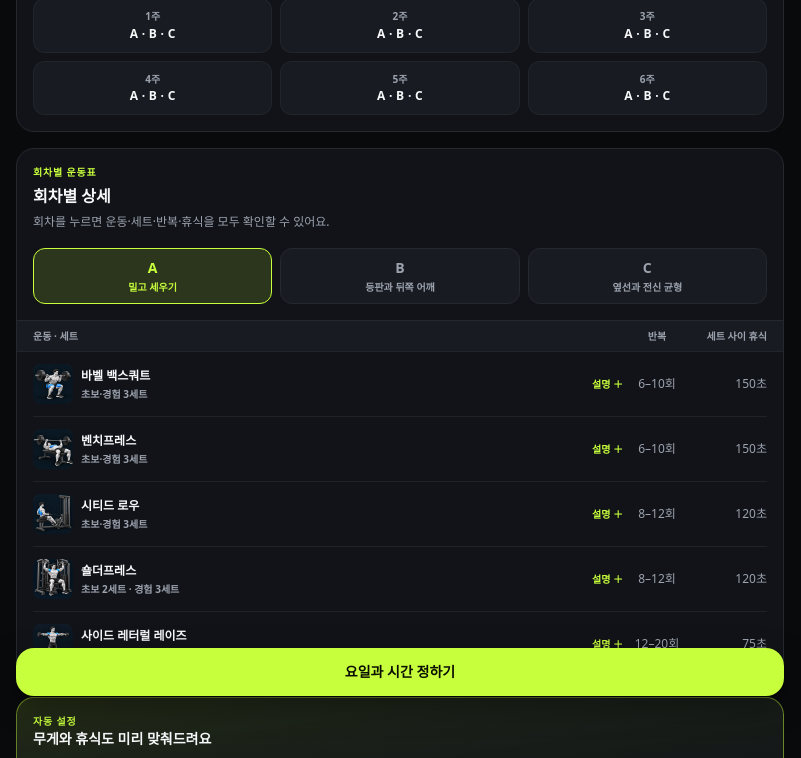
ProgramDetail › 운동명을 누르면 짧은 운동 설명을 같은 표 안에서 펼친다
This screenshot has width=801, height=758.
(page scrolled)
Expected: the text "바벨을 등에 메고 앉았다 일어나 하체 전체의 힘을 기르는 운동이에요." is not shown
Click the button with aria-label "바벨 백스쿼트 설명 보기".
click(53, 384)  # box [33, 362, 623, 406]
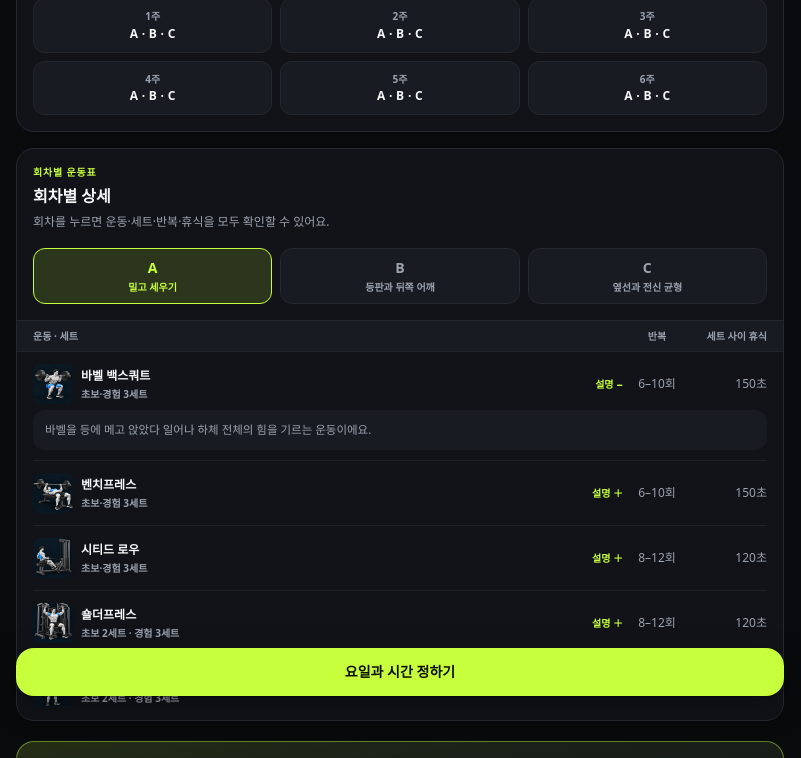
Expected: the button with aria-label "바벨 백스쿼트 설명 보기" is expanded
Expected: the text "바벨을 등에 메고 앉았다 일어나 하체 전체의 힘을 기르는 운동이에요." is shown, [33, 410, 767, 450]
Click the button with aria-label "바벨 백스쿼트 설명 보기".
click(53, 384)  # box [33, 362, 623, 406]
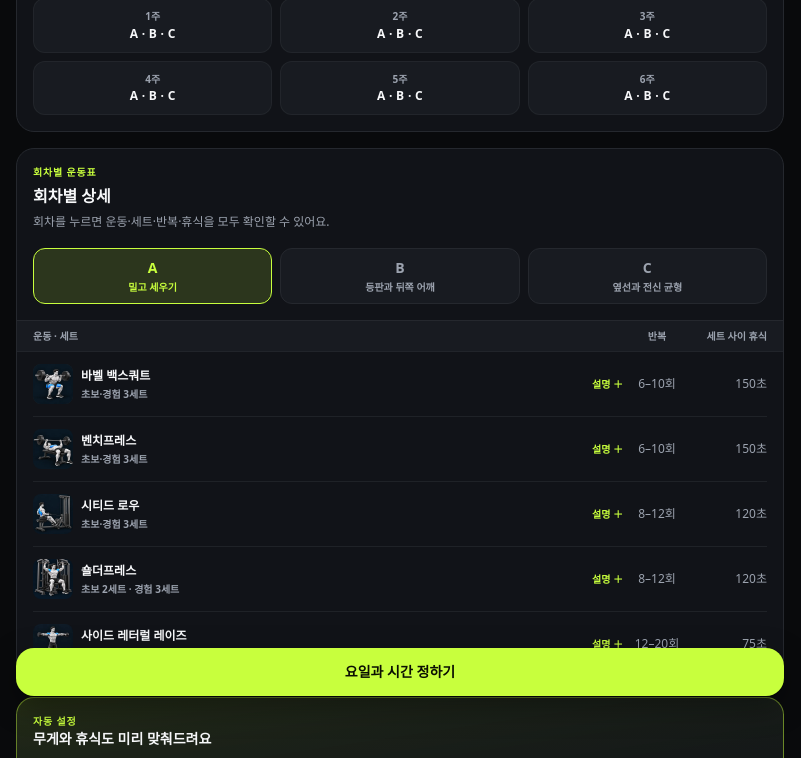
Expected: the text "바벨을 등에 메고 앉았다 일어나 하체 전체의 힘을 기르는 운동이에요." is gone
